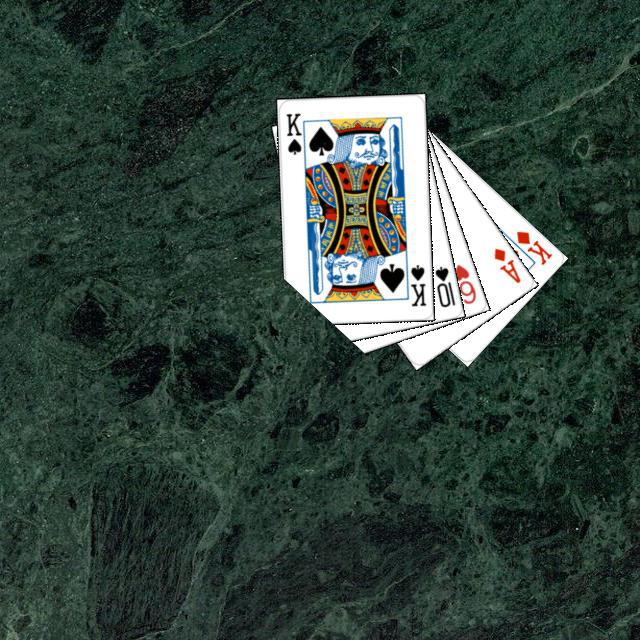10s: (430, 261, 457, 309)
6h: (449, 259, 478, 306)
Ad: (489, 243, 523, 285)
Kd: (511, 226, 554, 267)
Ks: (281, 108, 307, 159), (406, 260, 428, 308)
